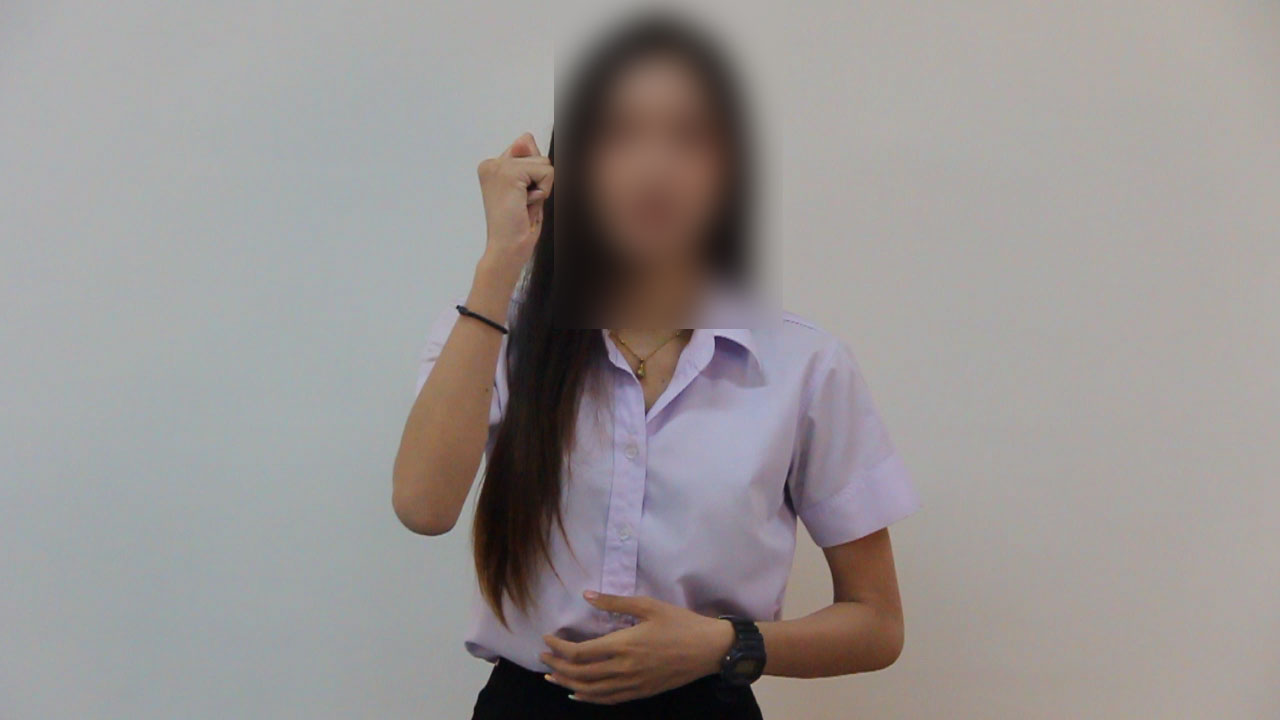tor: (457, 117, 581, 269)
